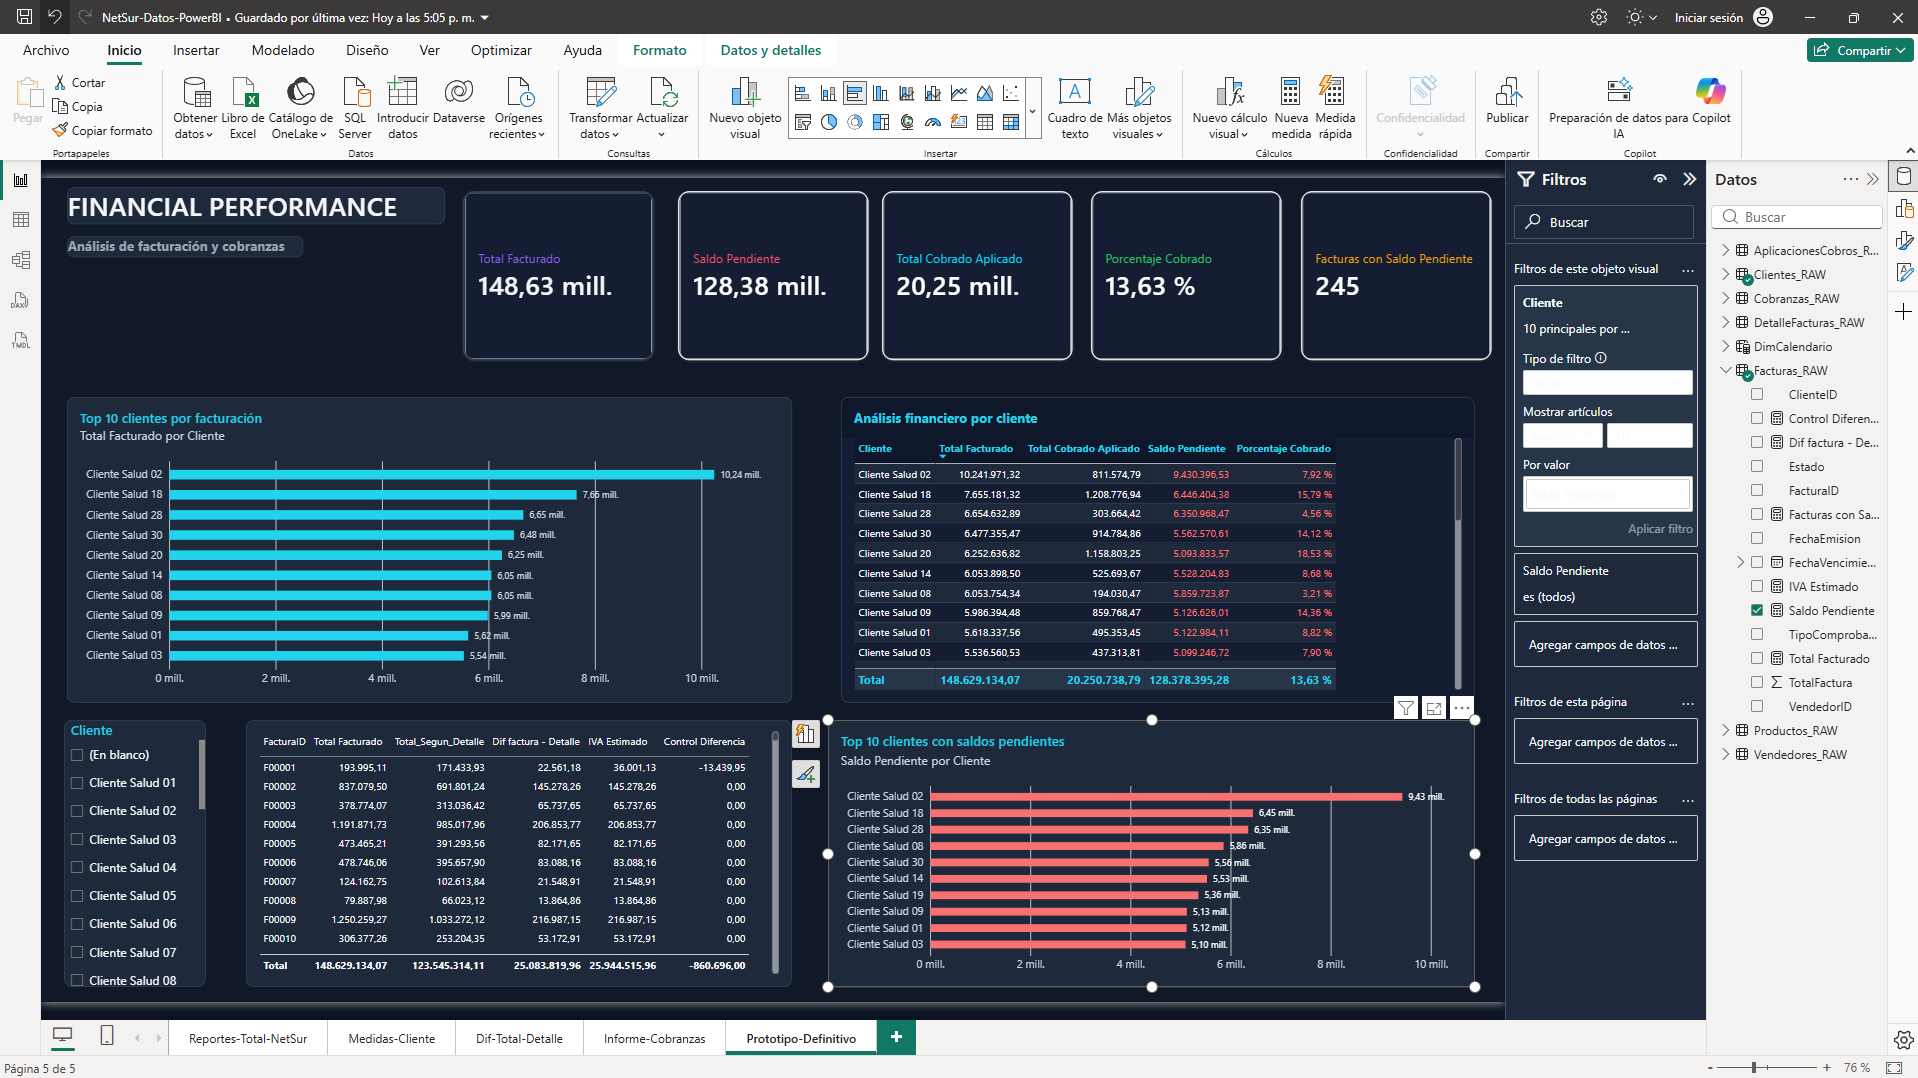

This screenshot's page, from the dashboard's own definition file:
{"tool":"powerbi","page":{"name":"Prototipo-Definitivo","canvas":[1920,1080],"ordinal":4},"visuals":[{"type":"cardVisual","fields":{"Data":["AplicacionesCobros_RAW.Total Cobrado Aplicado"]},"box":[1102.8,16.9,250.4,222.2],"z":0},{"type":"cardVisual","fields":{"Data":["Facturas_RAW.Total Facturado"]},"box":[552.8,16.9,250.4,222.2],"z":1000},{"type":"cardVisual","fields":{"Data":["Facturas_RAW.Saldo Pendiente"]},"box":[835.5,16.9,250.4,222.2],"z":2000},{"type":"cardVisual","fields":{"Data":["Cobranzas_RAW.Porcentaje Cobrado"]},"box":[1377.1,16.9,250.4,222.2],"z":3000},{"type":"cardVisual","fields":{"Data":["Facturas_RAW.Facturas con Saldo Pendiente"]},"box":[1652.7,16.9,250.4,222.2],"z":4000},{"type":"textbox","title":"FINANCIAL PERFORMANCE","box":[33.8,11.3,496.2,48.6],"z":5000},{"type":"textbox","title":"Análisis de facturación y cobranzas","box":[33.8,76,309.7,27.6],"z":6000},{"type":"clusteredBarChart","title":"Top 10 clientes por facturación","fields":{"Category":["Clientes_RAW.Cliente"],"Y":["Facturas_RAW.Total Facturado"]},"box":[33.8,286.9,950.9,400.9],"z":7000},{"type":"tableEx","title":"Análisis financiero por cliente","fields":{"Values":["Clientes_RAW.Cliente","Facturas_RAW.Total Facturado","AplicacionesCobros_RAW.Total Cobrado Aplicado","Facturas_RAW.Saldo Pendiente","Cobranzas_RAW.Porcentaje Cobrado"]},"box":[1049.3,286.9,831.3,400.9],"z":8000},{"type":"slicer","fields":{"Values":["Clientes_RAW.Cliente"]},"box":[29.5,710.3,185.7,350.2],"z":9000},{"type":"tableEx","fields":{"Values":["Facturas_RAW.FacturaID","Facturas_RAW.Total Facturado","DetalleFacturas_RAW.Total_Segun_Detalle","Facturas_RAW.Dif factura - Detalle","Facturas_RAW.IVA Estimado","Facturas_RAW.Control Diferencia"]},"box":[268.7,710.3,716,350.2],"z":10000},{"type":"clusteredBarChart","title":"Top 10 clientes con saldos pendientes","fields":{"Category":["Clientes_RAW.Cliente"],"Y":["Facturas_RAW.Saldo Pendiente"]},"box":[1032.1,710.6,848.2,350.7],"z":10001}]}

Visuals, with their boxes on the page's 1920x1080 design canvas (x1, y1, x2, y2). These are canvas units, not pixel positions in the 1918x1078 screenshot, which may show the page scaled, cropped or inside an application window:
cardVisual - AplicacionesCobros_RAW.Total Cobrado Aplicado: detection(1103, 17, 1353, 239)
cardVisual - Facturas_RAW.Total Facturado: detection(553, 17, 803, 239)
cardVisual - Facturas_RAW.Saldo Pendiente: detection(836, 17, 1086, 239)
cardVisual - Cobranzas_RAW.Porcentaje Cobrado: detection(1377, 17, 1628, 239)
cardVisual - Facturas_RAW.Facturas con Saldo Pendiente: detection(1653, 17, 1903, 239)
"FINANCIAL PERFORMANCE" textbox: detection(34, 11, 530, 60)
"Análisis de facturación y cobranzas" textbox: detection(34, 76, 344, 104)
"Top 10 clientes por facturación" clusteredBarChart: detection(34, 287, 985, 688)
"Análisis financiero por cliente" tableEx: detection(1049, 287, 1881, 688)
slicer - Clientes_RAW.Cliente: detection(30, 710, 215, 1060)
tableEx - Facturas_RAW.FacturaID x Facturas_RAW.Total Facturado: detection(269, 710, 985, 1060)
"Top 10 clientes con saldos pendientes" clusteredBarChart: detection(1032, 711, 1880, 1061)
